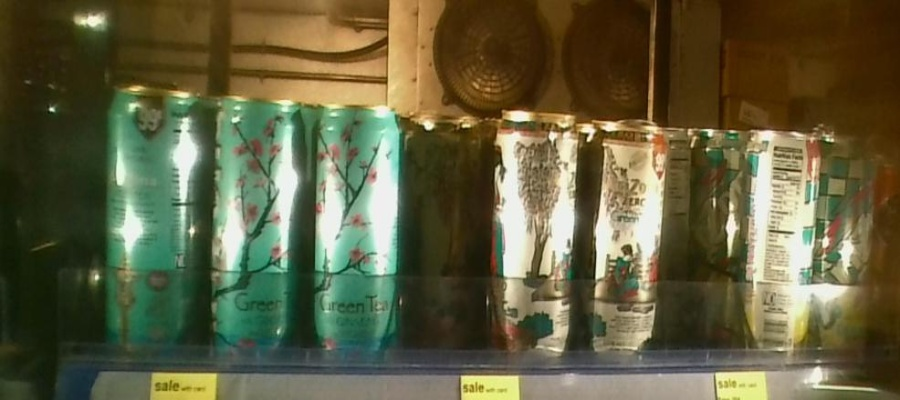bottle: (99, 84, 205, 361), (208, 82, 310, 360), (310, 82, 402, 363), (492, 100, 581, 367), (583, 103, 664, 363), (405, 97, 485, 350), (743, 121, 821, 367), (823, 112, 881, 360)
